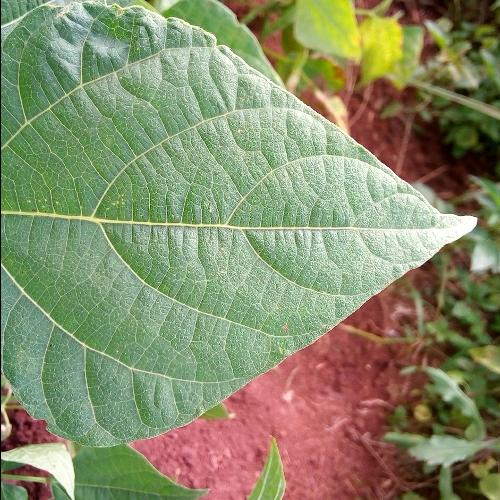embun tepung: (27, 0, 377, 388)
